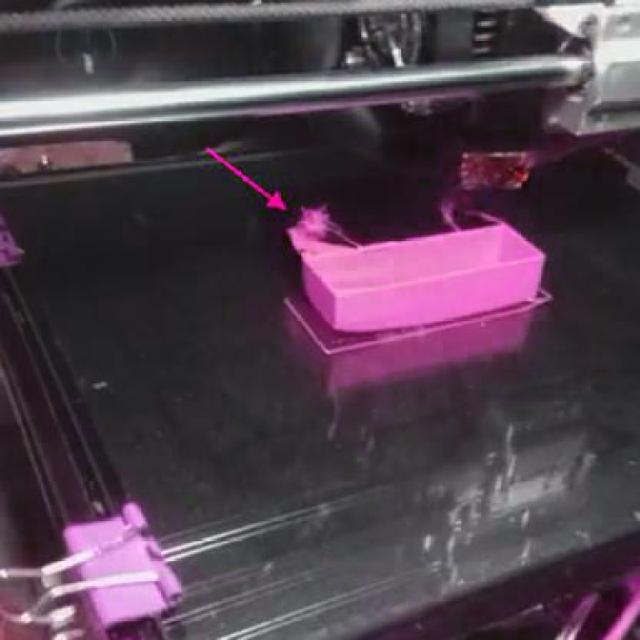Spaghetti: (299, 203, 335, 234)
